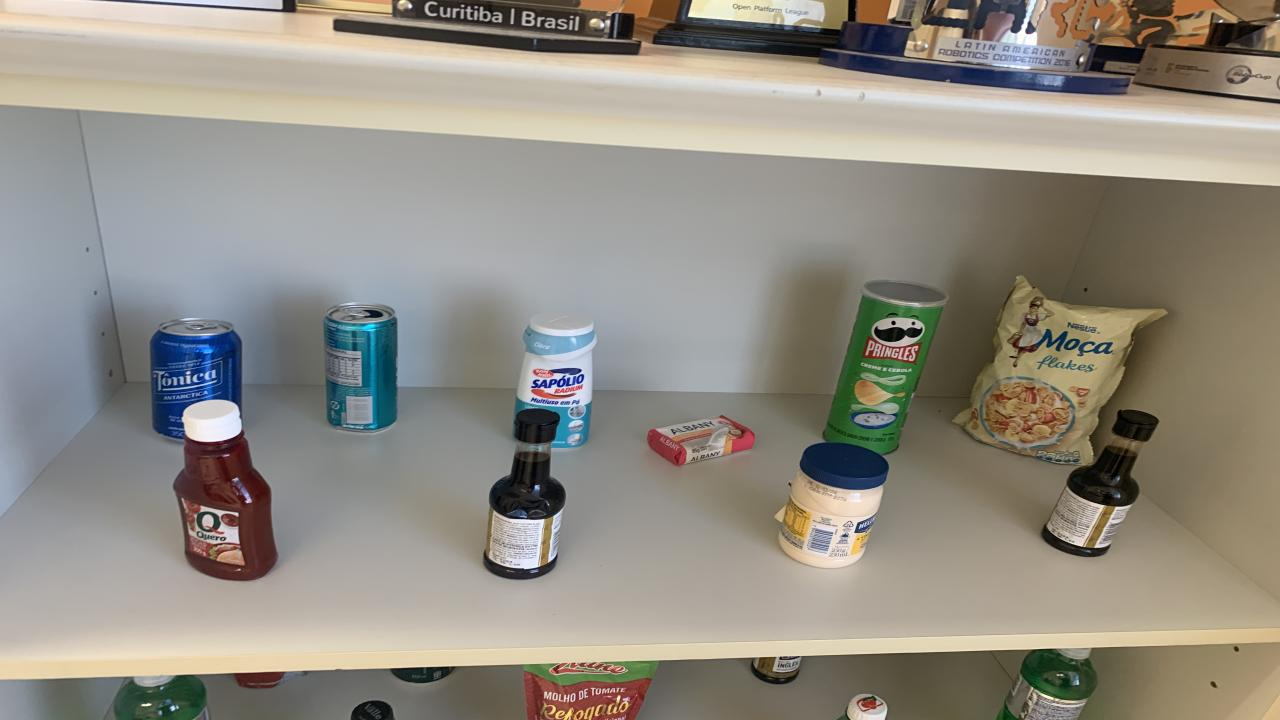Cleaner-Cleanup_Items: (515, 311, 598, 448)
Detergent-Cleanup_Items: (998, 649, 1098, 720), (112, 675, 210, 720)
English_Sauce-Pantry_Items: (1042, 411, 1158, 557), (482, 409, 565, 579), (750, 656, 802, 684)
Flakes-Snacks: (952, 276, 1168, 465)
Guarana-Drinks: (840, 694, 888, 720)
Guarana_Can-Drinks: (390, 668, 455, 682)
Ketchup-Pantry_Items: (172, 399, 278, 581)
Mayonnaise-Pantry_Items: (780, 442, 890, 568)
Pringles-Snacks: (822, 279, 948, 454)
Soap-Cleanup_Items: (648, 416, 755, 465)
Tea-Drinks: (322, 304, 398, 431)
Tomato_Sauce-Pantry_Items: (522, 662, 658, 720), (235, 671, 285, 688)
Tonic-Drinks: (150, 317, 242, 439)
